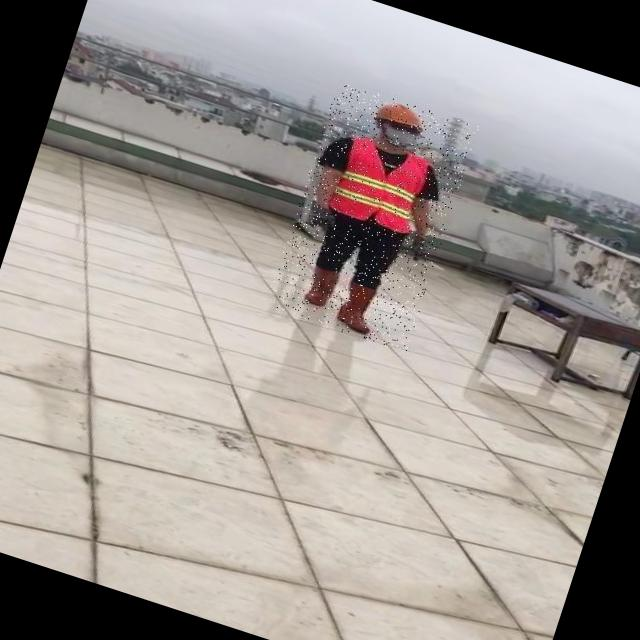hard_hat: (369, 94, 432, 136)
safety_vest: (324, 132, 433, 237)
vehicle: (266, 82, 480, 354)
work_boots: (334, 280, 388, 338), (304, 264, 342, 310)
